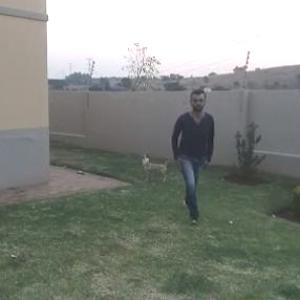follow: (167, 83, 214, 226)
